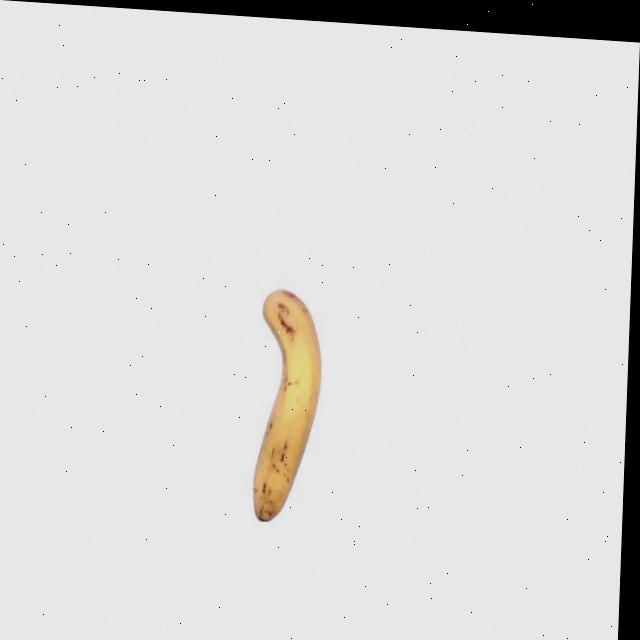banana: (247, 285, 329, 529)
